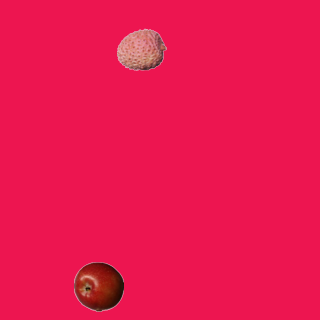Apple Braeburn: (73, 261, 123, 311)
Lychee: (116, 24, 166, 74)
